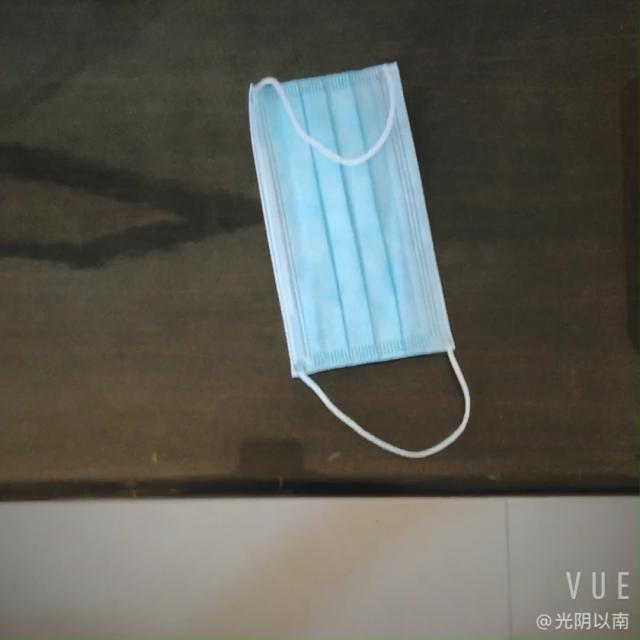non-organic waste: (250, 58, 478, 374)
